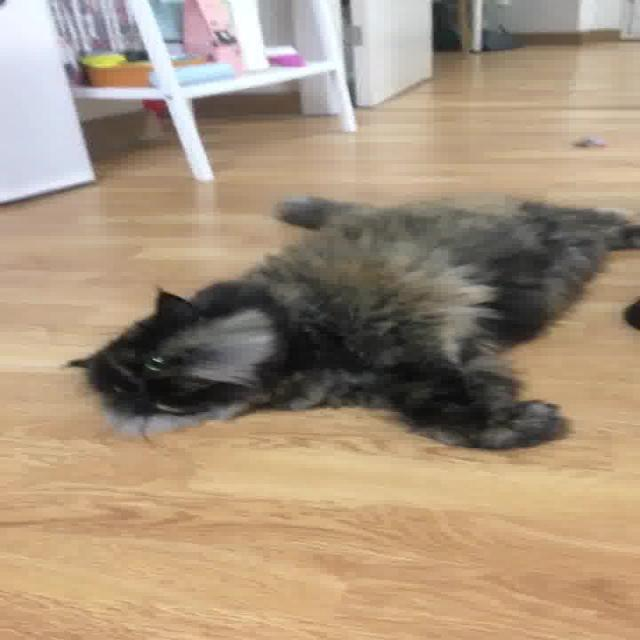cat: (73, 180, 640, 451)
